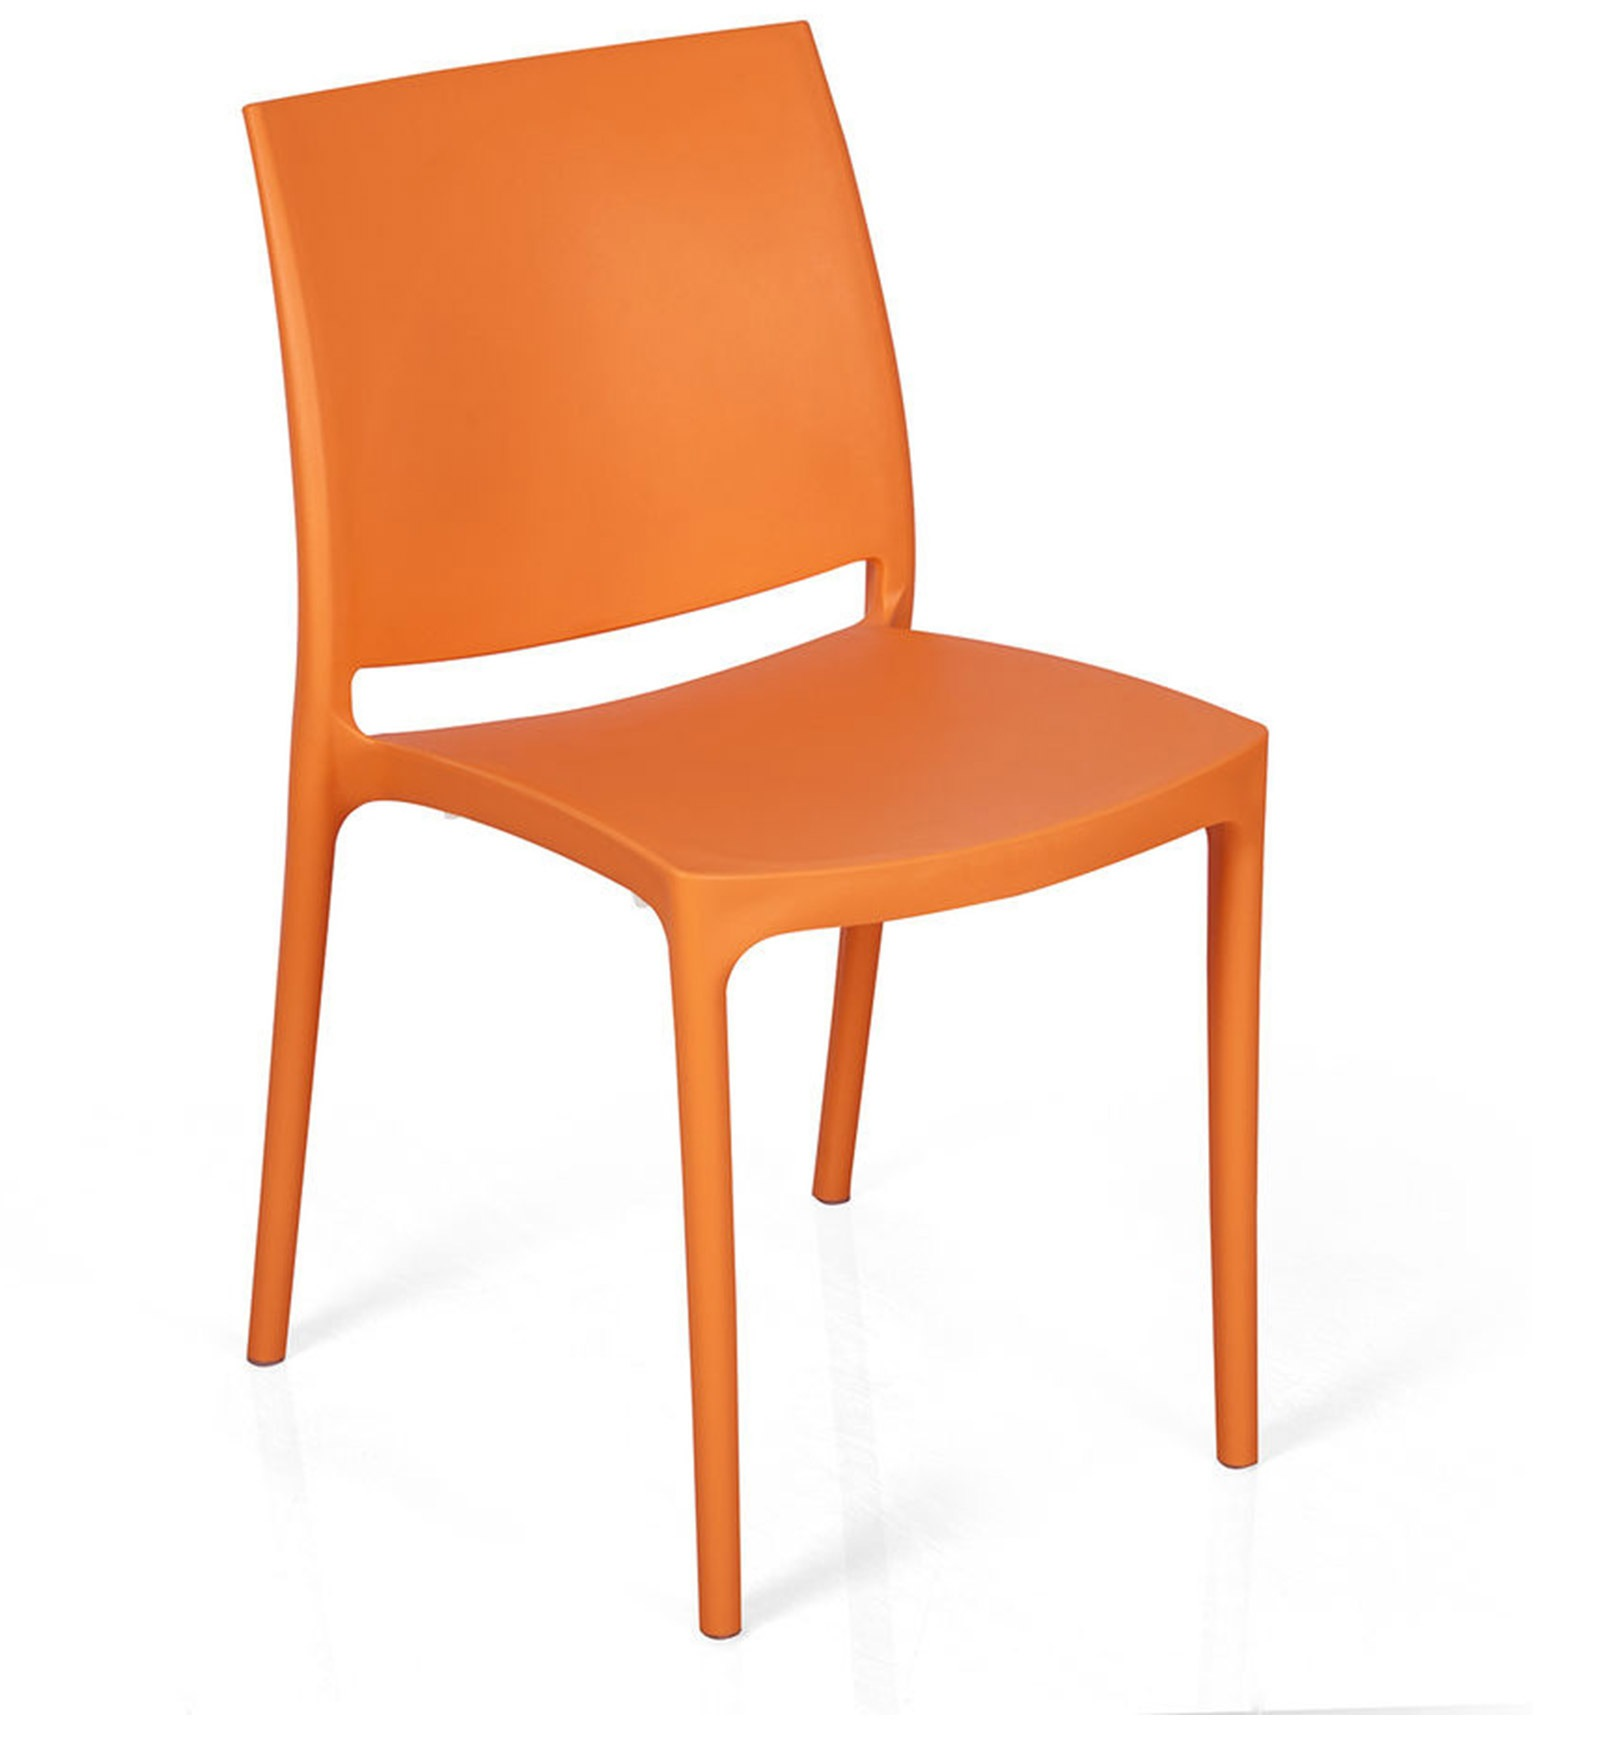Novella Series - 8 Chair (Set of 2) in Orange Colour by Nilkamal: (244, 14, 1264, 1634)
